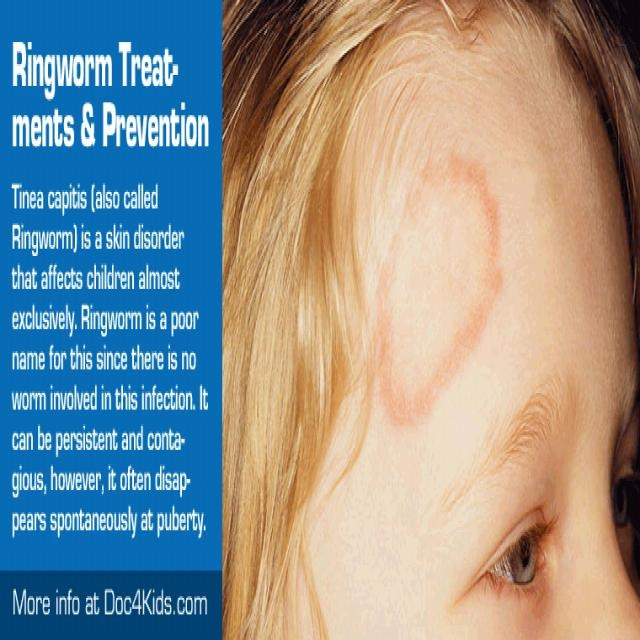Ringworm: (350, 138, 527, 437)
